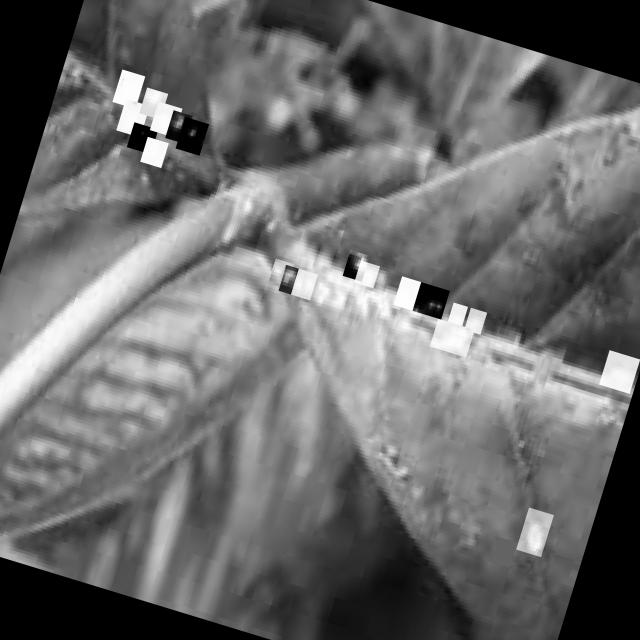scale_insect: (516, 507, 554, 557), (599, 350, 640, 394), (429, 318, 474, 357), (412, 282, 449, 319), (174, 116, 208, 156), (116, 99, 150, 138), (112, 69, 144, 109), (149, 101, 182, 137), (126, 122, 158, 154), (393, 276, 421, 311), (165, 110, 193, 144), (139, 88, 168, 120), (140, 136, 169, 168), (342, 250, 370, 282), (278, 264, 306, 296), (290, 268, 318, 300), (268, 258, 295, 289), (354, 260, 379, 288), (464, 308, 486, 334), (447, 302, 468, 328)
